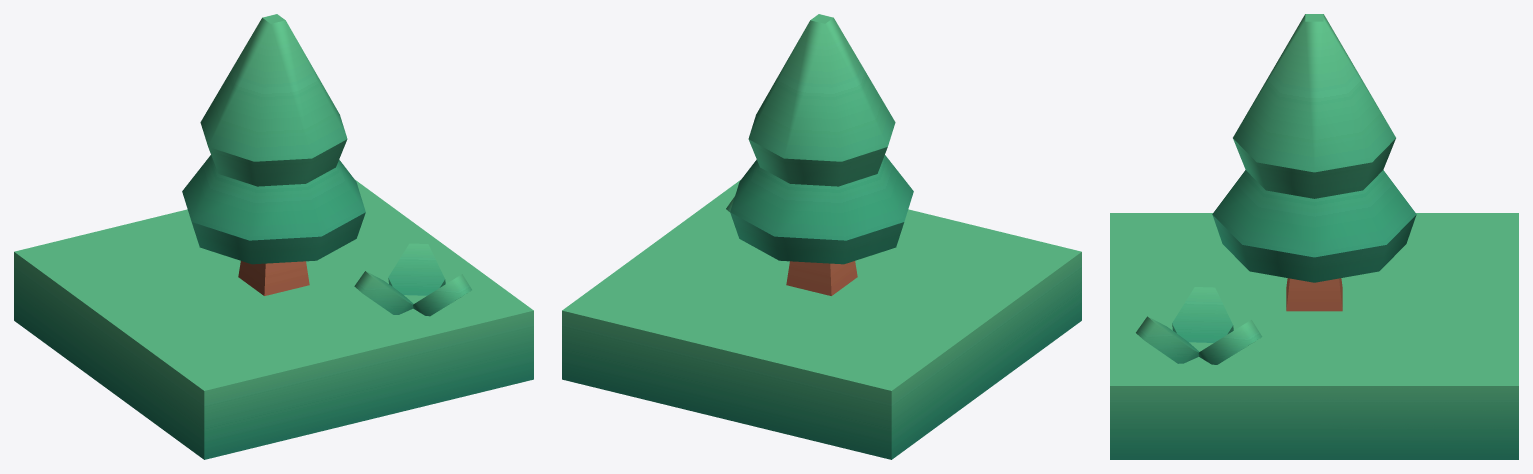
File: kenney-tower-defense-tile-tree.glb
The picture shows the model from 3 angles, left to right: view 1: azimuth 30°, elevation 25°; view 2: azimuth 150°, elevation 25°; view 3: azimuth 270°, elevation 25°; orthographic projection. The views are drawn at different scales.
Visible parts, largest first — view 1: tile-tree; view 2: tile-tree; view 3: tile-tree.
Part boxes in pixels (x1,y1,x2,y2): tile-tree: [14, 14, 533, 459]; tile-tree: [562, 14, 1081, 459]; tile-tree: [1110, 14, 1518, 459].
Bounding box in the file's own units: 1 × 0.96 × 1.
Materials: 1 (1 with a texture image).
